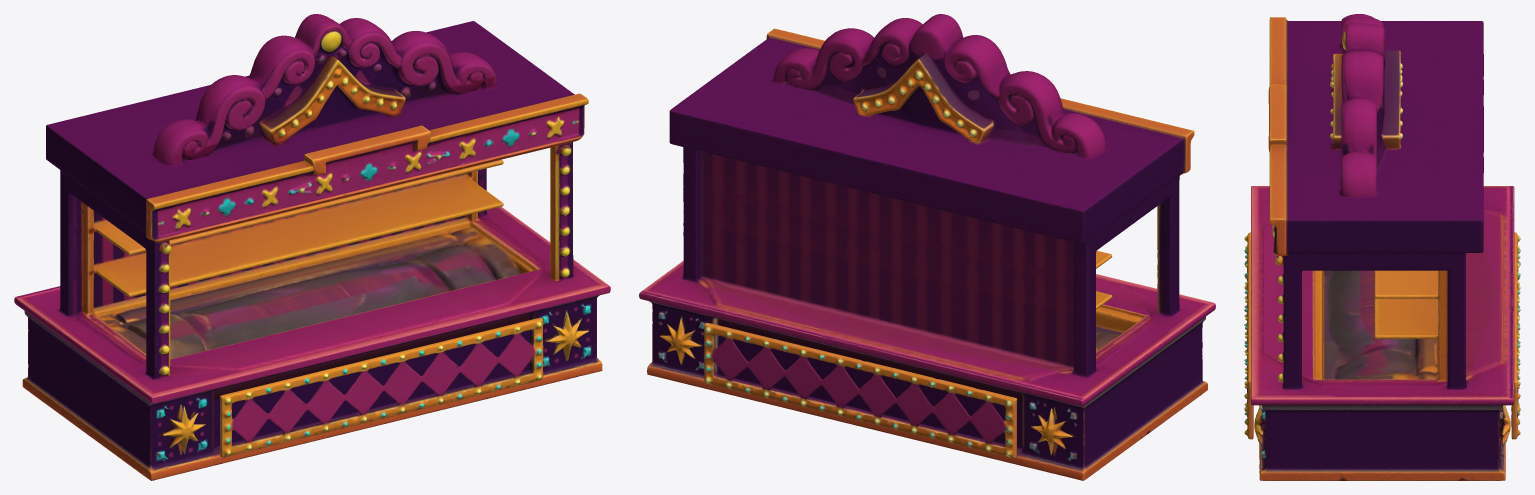
Rendered from carnival-prize-booth.glb.
3 views of the same model, side by side, from view 1: azimuth 30°, elevation 25°; view 2: azimuth 150°, elevation 25°; view 3: azimuth 270°, elevation 25° (orthographic). The views are drawn at different scales.
Parts seen in each view (by area): view 1: mesh_node; view 2: mesh_node; view 3: mesh_node.
Part boxes in pixels (left/top/right/bottom): mesh_node: left=14, top=14, right=610, bottom=480; mesh_node: left=639, top=14, right=1215, bottom=480; mesh_node: left=1244, top=14, right=1520, bottom=480.
Size of the model in its own units: 1.9 by 1.46 by 1.04.
Materials: 1 (1 with a texture image).
